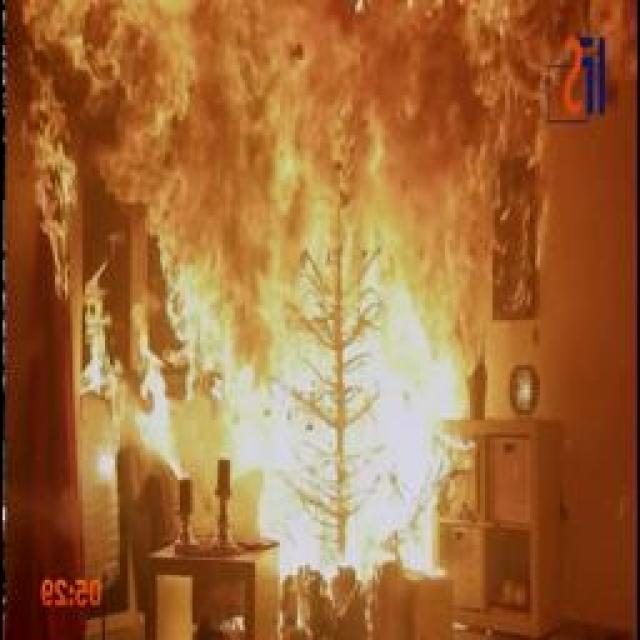fire: (9, 1, 636, 571)
